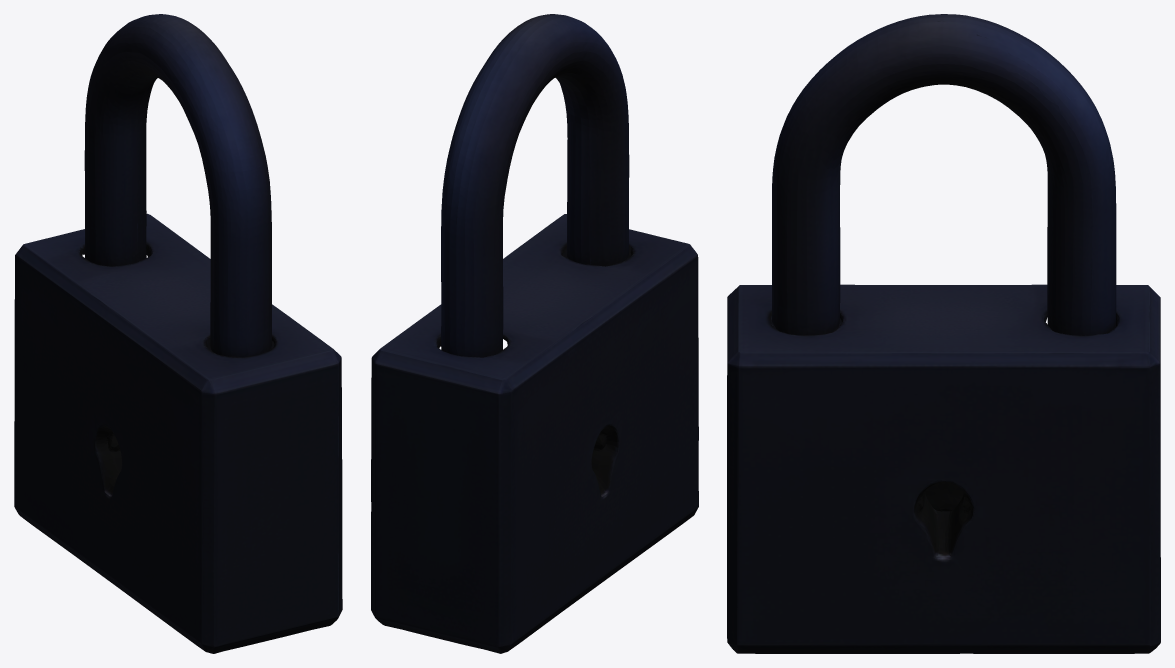
File: chave-3d-2.glb
3 views of the same model, side by side, from view 1: azimuth 30°, elevation 25°; view 2: azimuth 150°, elevation 25°; view 3: azimuth 270°, elevation 25° (orthographic). The views are drawn at different scales.
Parts seen in each view (by area): view 1: world; view 2: world; view 3: world.
Part boxes in pixels (x1,y1,x2,y2): world: [14, 14, 342, 653]; world: [371, 14, 698, 653]; world: [727, 14, 1160, 653].
Size of the model in its own units: 0.2707 by 1 by 0.6503.
1 material, 1 textured.
